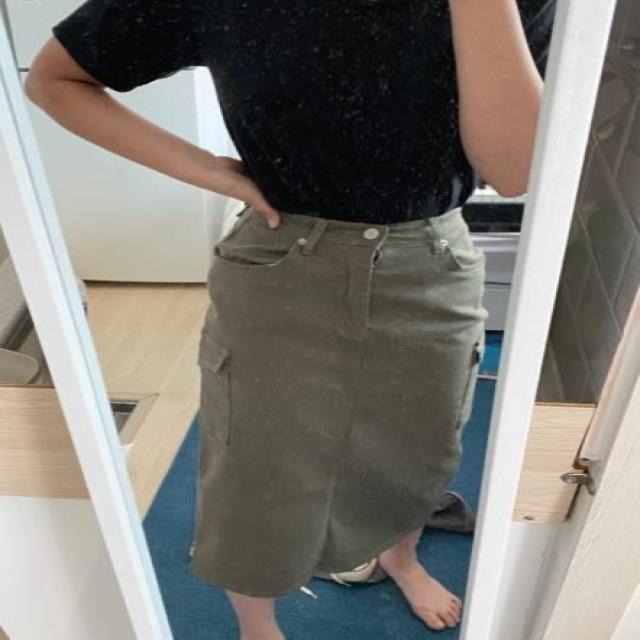shortsleeve: (50, 0, 552, 224)
skirt: (190, 199, 488, 594)
